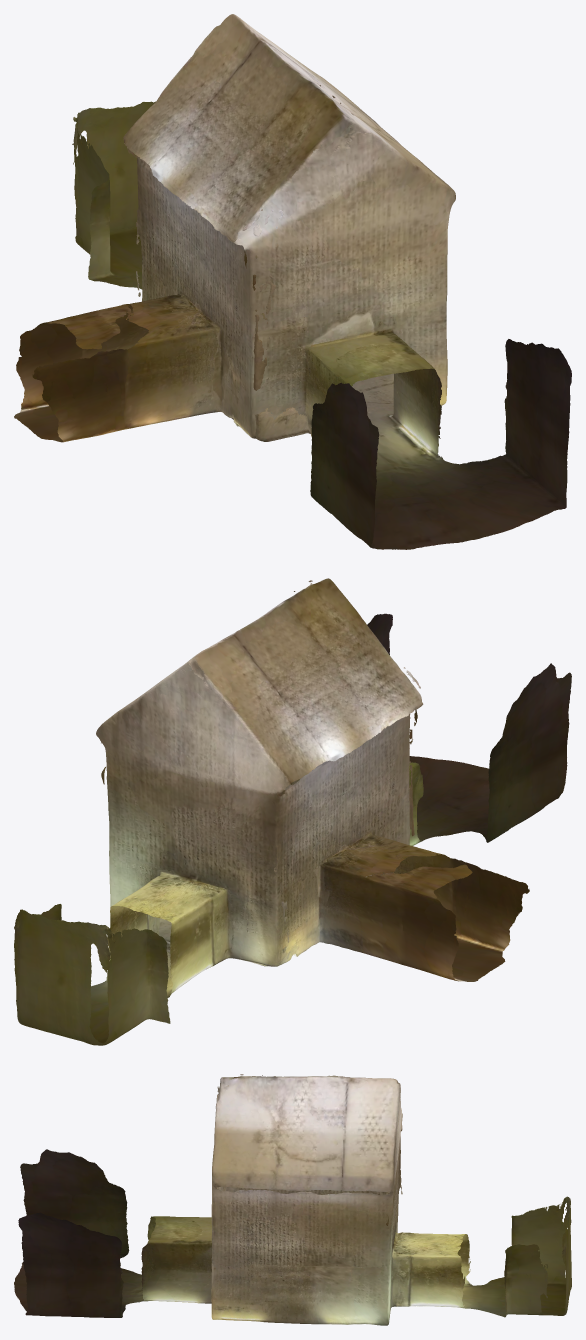
File: unas-antechamber.glb
3 renders of one model, top to bottom at view 1: azimuth 30°, elevation 25°; view 2: azimuth 150°, elevation 25°; view 3: azimuth 270°, elevation 25°, orthographic. The views are drawn at different scales.
Parts seen in each view (by area): view 1: Object_2; view 2: Object_2; view 3: Object_2.
Part boxes in pixels (x1,y1,x2,y2): Object_2: (14,14,571,549); Object_2: (14,578,571,1045); Object_2: (14,1074,571,1325).
Bounding box in the file's own units: 6.38 × 4.99 × 11.58.
1 material, 1 textured.
